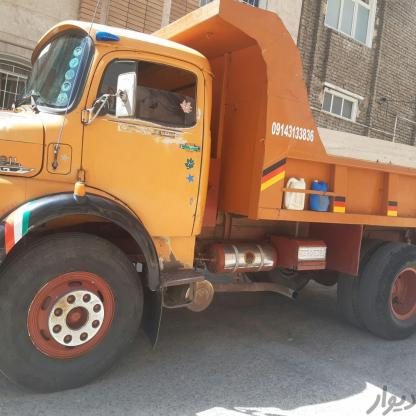Truck: (0, 0, 416, 410)
